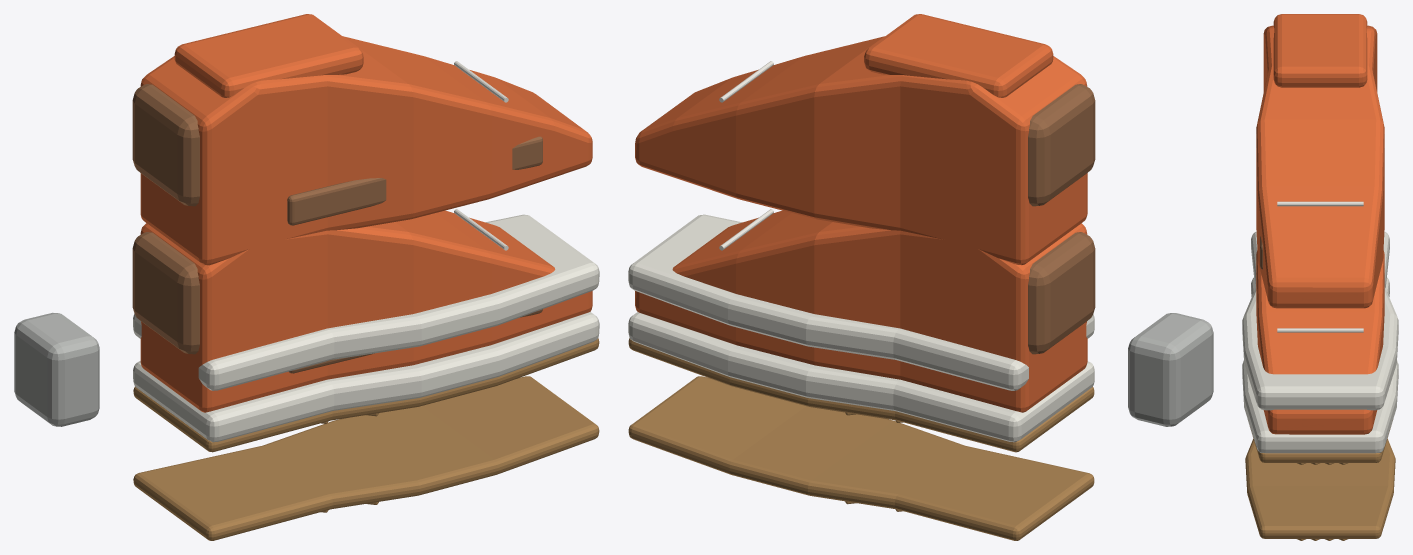
The model's file is nike-pre-montreal-1975.glb.
3 views of the same model, side by side, from view 1: azimuth 30°, elevation 25°; view 2: azimuth 150°, elevation 25°; view 3: azimuth 270°, elevation 25° (orthographic). The views are drawn at different scales.
Visible parts, largest first — view 1: nike-pre-montreal-1975_UPPER_EXPLODED, nike-pre-montreal-1975_UPPER, nike-pre-montreal-1975_OUTSOLE_EXPLODED, nike-pre-montreal-1975_MIDSOLE_EXPLODED, nike-pre-montreal-1975_MIDSOLE, nike-pre-montreal-1975_TONGUE_EXPLODED, nike-pre-montreal-1975_HEEL_FOAM_EXPLODED, nike-pre-montreal-1975_HEEL_COUNTER_EXPLODED, nike-pre-montreal-1975_HEEL_COUNTER, nike-pre-montreal-1975_OUTSOLE, nike-pre-montreal-1975_SIDE_REINFORCEMENT_EXPLODED; view 2: nike-pre-montreal-1975_UPPER_EXPLODED, nike-pre-montreal-1975_UPPER, nike-pre-montreal-1975_OUTSOLE_EXPLODED, nike-pre-montreal-1975_MIDSOLE_EXPLODED, nike-pre-montreal-1975_MIDSOLE, nike-pre-montreal-1975_TONGUE_EXPLODED, nike-pre-montreal-1975_HEEL_FOAM_EXPLODED, nike-pre-montreal-1975_HEEL_COUNTER, nike-pre-montreal-1975_HEEL_COUNTER_EXPLODED, nike-pre-montreal-1975_OUTSOLE; view 3: nike-pre-montreal-1975_UPPER_EXPLODED, nike-pre-montreal-1975_UPPER, nike-pre-montreal-1975_OUTSOLE_EXPLODED, nike-pre-montreal-1975_MIDSOLE_EXPLODED, nike-pre-montreal-1975_TONGUE_EXPLODED, nike-pre-montreal-1975_MIDSOLE, nike-pre-montreal-1975_OUTSOLE, nike-pre-montreal-1975_LACE_5_EXPLODED, nike-pre-montreal-1975_LACE_5.
Part boxes in pixels (bbox=[...]): nike-pre-montreal-1975_UPPER_EXPLODED: bbox=[140, 36, 592, 265]; nike-pre-montreal-1975_UPPER: bbox=[140, 210, 592, 412]; nike-pre-montreal-1975_OUTSOLE_EXPLODED: bbox=[133, 376, 599, 540]; nike-pre-montreal-1975_MIDSOLE_EXPLODED: bbox=[133, 214, 599, 390]; nike-pre-montreal-1975_MIDSOLE: bbox=[133, 312, 599, 442]; nike-pre-montreal-1975_TONGUE_EXPLODED: bbox=[174, 14, 363, 97]; nike-pre-montreal-1975_HEEL_FOAM_EXPLODED: bbox=[14, 312, 99, 426]; nike-pre-montreal-1975_HEEL_COUNTER_EXPLODED: bbox=[132, 84, 199, 206]; nike-pre-montreal-1975_HEEL_COUNTER: bbox=[132, 232, 199, 354]; nike-pre-montreal-1975_OUTSOLE: bbox=[133, 338, 599, 452]; nike-pre-montreal-1975_SIDE_REINFORCEMENT_EXPLODED: bbox=[287, 136, 542, 225]; nike-pre-montreal-1975_UPPER_EXPLODED: bbox=[635, 36, 1087, 265]; nike-pre-montreal-1975_UPPER: bbox=[635, 210, 1087, 412]; nike-pre-montreal-1975_OUTSOLE_EXPLODED: bbox=[628, 376, 1094, 540]; nike-pre-montreal-1975_MIDSOLE_EXPLODED: bbox=[628, 214, 1094, 390]; nike-pre-montreal-1975_MIDSOLE: bbox=[628, 312, 1094, 442]; nike-pre-montreal-1975_TONGUE_EXPLODED: bbox=[864, 14, 1053, 97]; nike-pre-montreal-1975_HEEL_FOAM_EXPLODED: bbox=[1128, 313, 1213, 426]; nike-pre-montreal-1975_HEEL_COUNTER: bbox=[1028, 232, 1095, 354]; nike-pre-montreal-1975_HEEL_COUNTER_EXPLODED: bbox=[1028, 84, 1095, 206]; nike-pre-montreal-1975_OUTSOLE: bbox=[628, 338, 1094, 452]; nike-pre-montreal-1975_UPPER_EXPLODED: bbox=[1256, 25, 1384, 308]; nike-pre-montreal-1975_UPPER: bbox=[1256, 251, 1384, 434]; nike-pre-montreal-1975_OUTSOLE_EXPLODED: bbox=[1245, 439, 1395, 538]; nike-pre-montreal-1975_MIDSOLE_EXPLODED: bbox=[1242, 231, 1398, 410]; nike-pre-montreal-1975_TONGUE_EXPLODED: bbox=[1273, 14, 1367, 87]; nike-pre-montreal-1975_MIDSOLE: bbox=[1242, 277, 1398, 453]; nike-pre-montreal-1975_OUTSOLE: bbox=[1249, 426, 1391, 462]; nike-pre-montreal-1975_LACE_5_EXPLODED: bbox=[1277, 201, 1363, 206]; nike-pre-montreal-1975_LACE_5: bbox=[1277, 328, 1363, 332].
Size of the model in its own units: 0.378 by 0.306 by 0.112.
